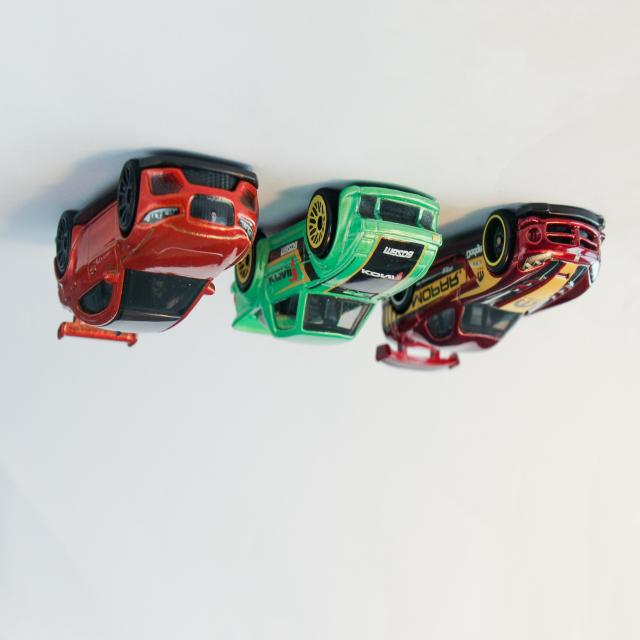Car: (53, 155, 259, 344), (230, 184, 443, 346), (382, 205, 606, 356)
